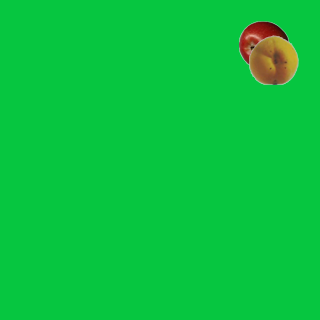Apple Braeburn: (238, 20, 288, 70)
Peach 2: (248, 34, 298, 84)
